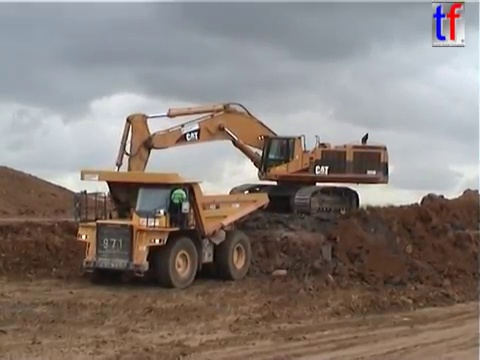excavator: (104, 100, 392, 231)
truck: (72, 168, 271, 290)
worker: (167, 182, 187, 227)
